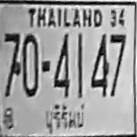0: (22, 33, 38, 97)
1: (78, 33, 83, 98)
4: (54, 33, 72, 99), (91, 33, 108, 97)
7: (109, 33, 126, 97), (4, 33, 20, 96)
BRM: (41, 103, 87, 132)
